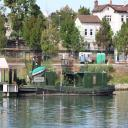tugboat: (10, 53, 118, 99)
